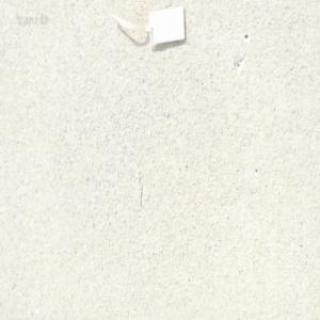LuggageTagtrack_idkeyframe: (107, 4, 185, 54)
